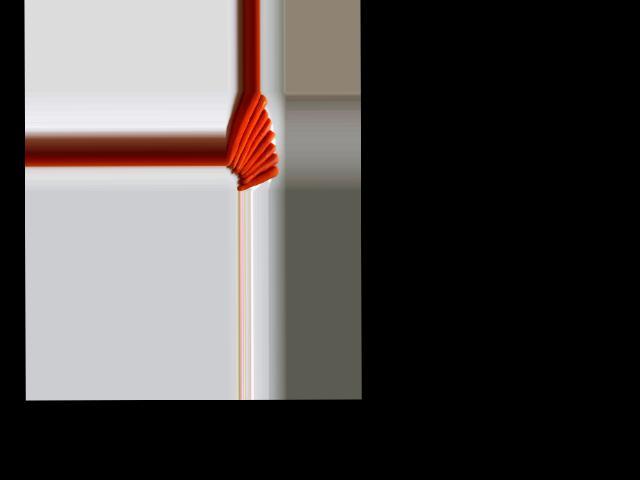carrot: (226, 91, 259, 164)
